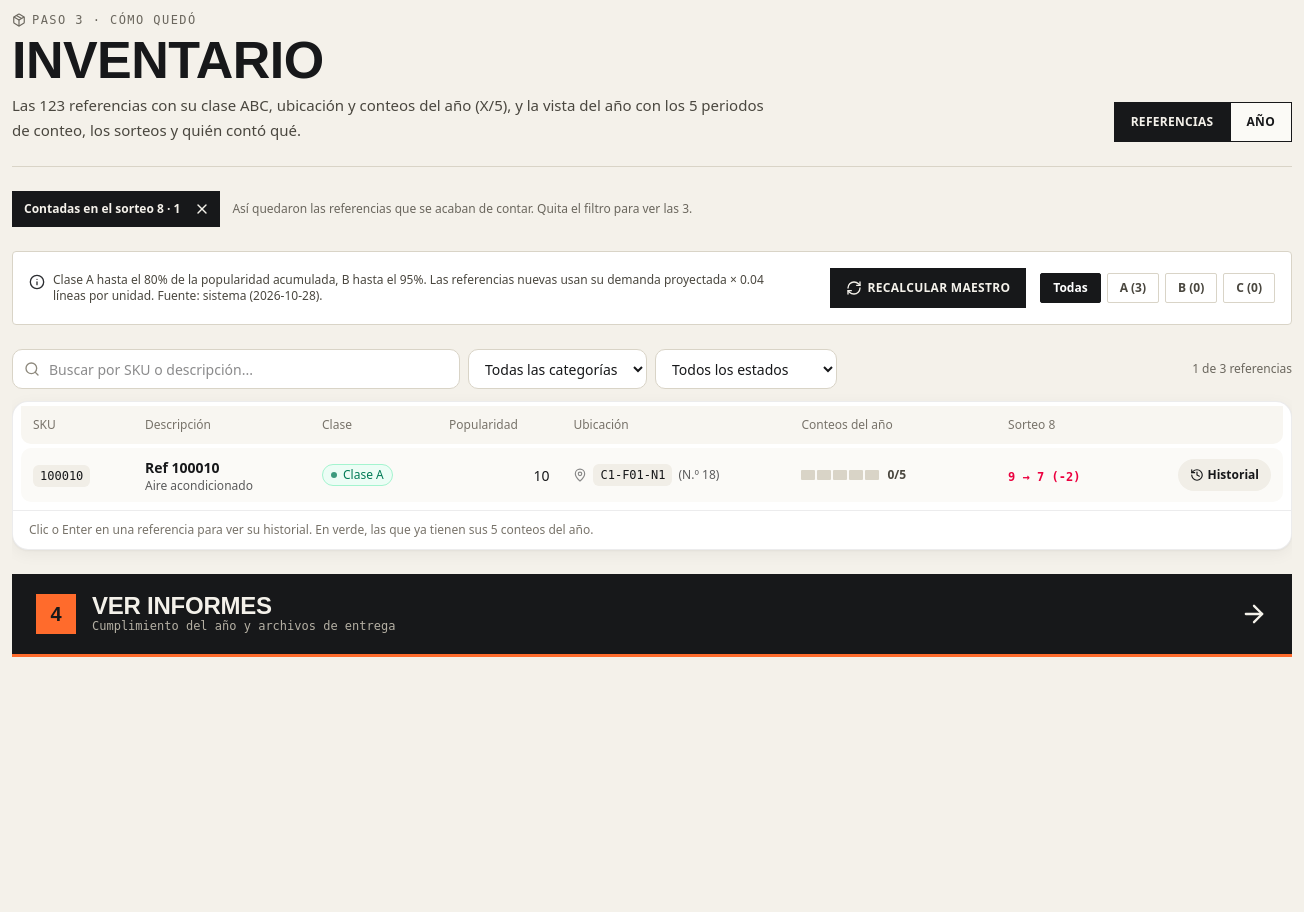
Scenario: Paso 3: Inventario › con ?sorteo=N arranca en lo contado en ese sorteo y el chip quita el filtro
The image size is (1304, 912).
Check: the text "Contadas en el sorteo 8 · 1" is shown, box [12,191,220,227]
Check: the text "Ref 100010" is shown, box [145,458,220,477]
What coordinates should you click on to do the following:
click the button named "Quitar el filtro del sorteo"
I would click on:
 (202, 209)
Its box is [188,195,216,223].
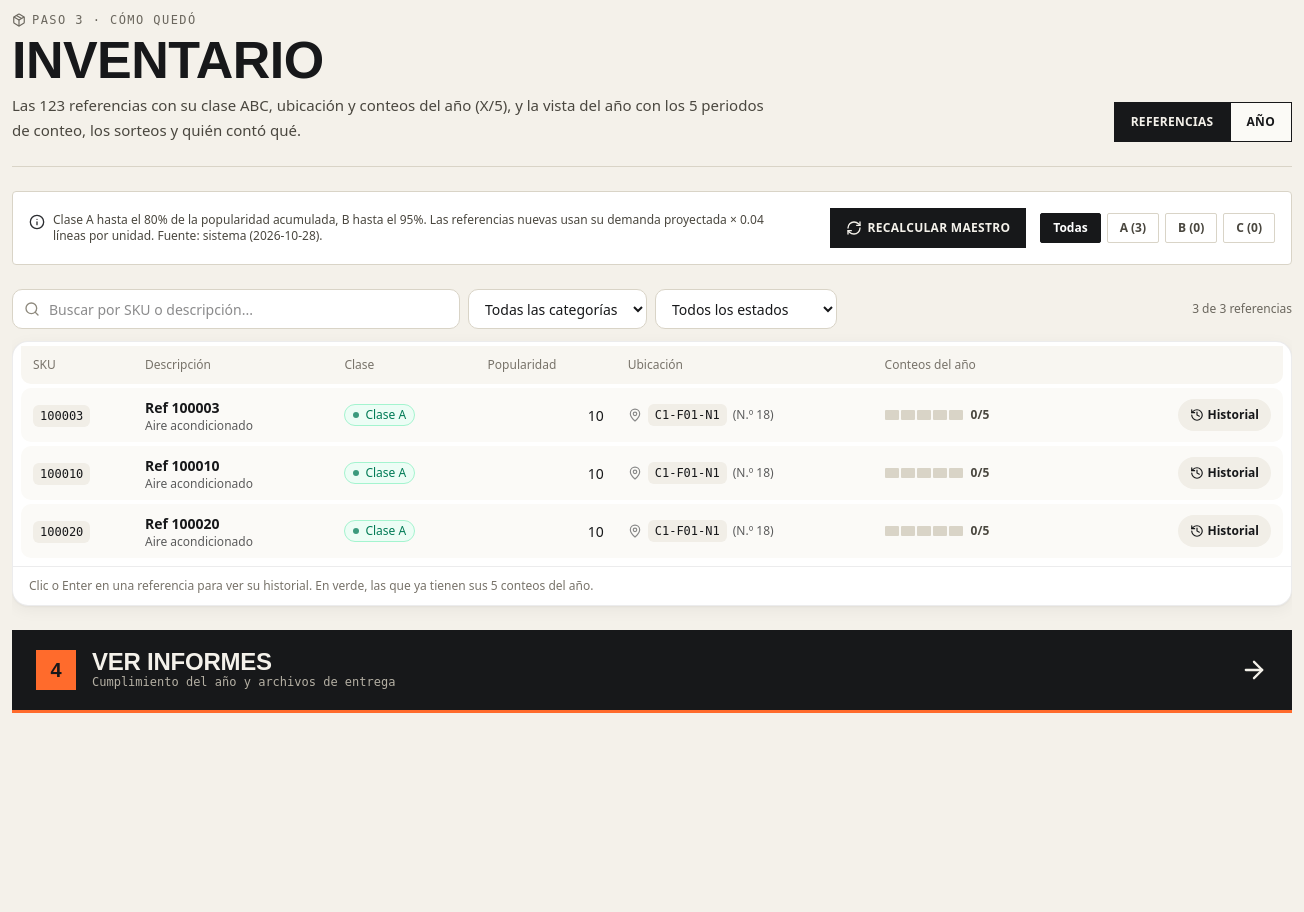
Check: the text "Ref 100003" is shown, box [145,398,220,417]
Check: the text "Contadas en el sorteo 8" is gone
